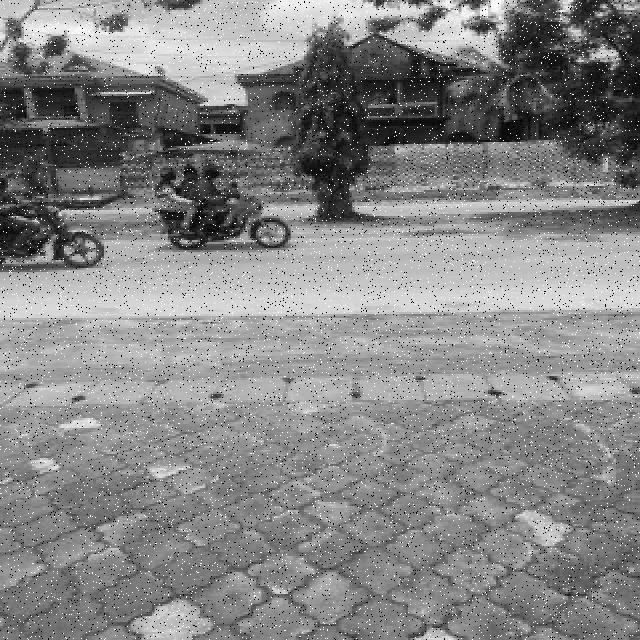Motorbike: (152, 164, 291, 249), (0, 177, 105, 268)
